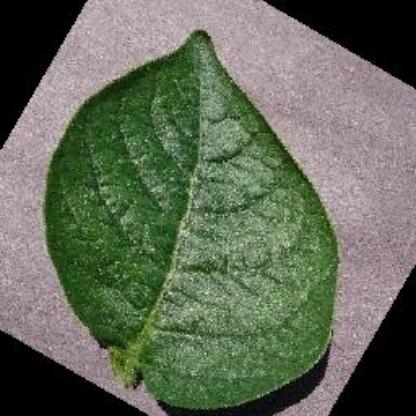Healthy-plant: (37, 24, 353, 412)
